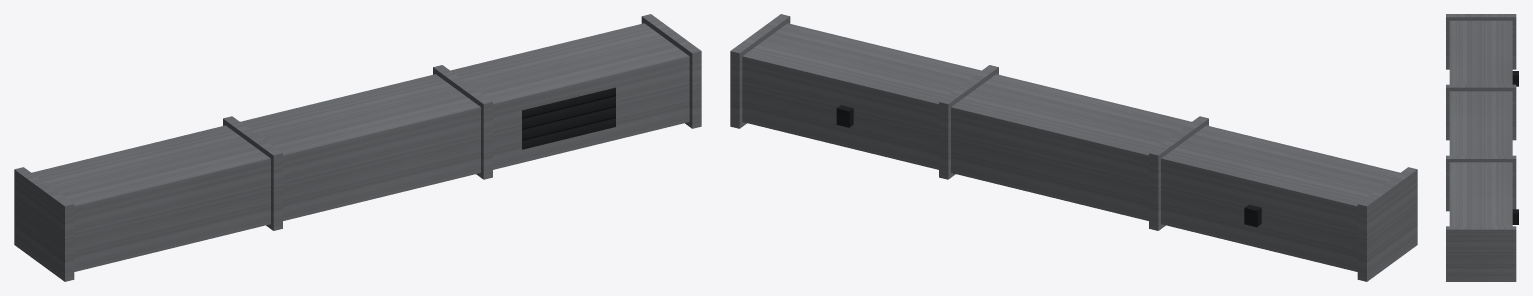
Rendered from SM_LFD_DuctRun_4m.fbx.
The picture shows the model from 3 angles, left to right: view 1: azimuth 30°, elevation 25°; view 2: azimuth 150°, elevation 25°; view 3: azimuth 270°, elevation 25°; orthographic projection. The views are drawn at different scales.
Parts seen in each view (by area): view 1: SM_LFD_DuctRun_4m_LOD0; view 2: SM_LFD_DuctRun_4m_LOD0; view 3: SM_LFD_DuctRun_4m_LOD0.
Part boxes in pixels (x1,y1,x2,y2): SM_LFD_DuctRun_4m_LOD0: (14, 14, 701, 281); SM_LFD_DuctRun_4m_LOD0: (730, 14, 1417, 281); SM_LFD_DuctRun_4m_LOD0: (1446, 14, 1518, 281).
Size of what is drawn, in the model's own units: 4.06 by 0.46 by 0.58.
